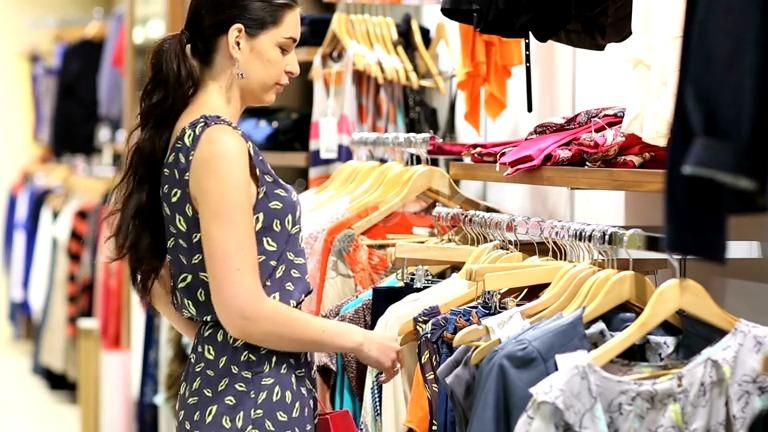Non shoplifting: (110, 0, 434, 432)
